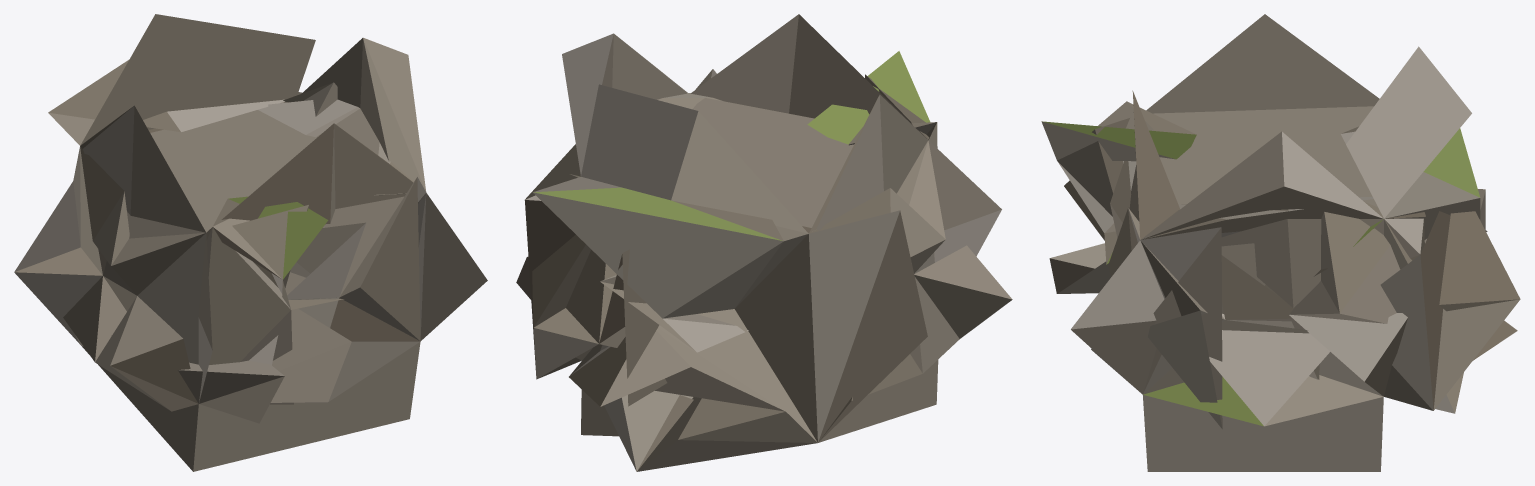
File: ChunkGranite_a.glb
3 views of the same model, side by side, from view 1: azimuth 30°, elevation 25°; view 2: azimuth 150°, elevation 25°; view 3: azimuth 270°, elevation 25° (orthographic). The views are drawn at different scales.
Parts seen in each view (by area): view 1: ChunkGranite_a; view 2: ChunkGranite_a; view 3: ChunkGranite_a.
Boxes of the visible parts, x1,y1,x2,y2 form: ChunkGranite_a: [14, 14, 487, 471]; ChunkGranite_a: [516, 14, 1012, 471]; ChunkGranite_a: [1041, 14, 1520, 471].
Size of what is drawn, in the model's own units: 0.4609 by 0.3975 by 0.4785.
1 material, 1 textured.
